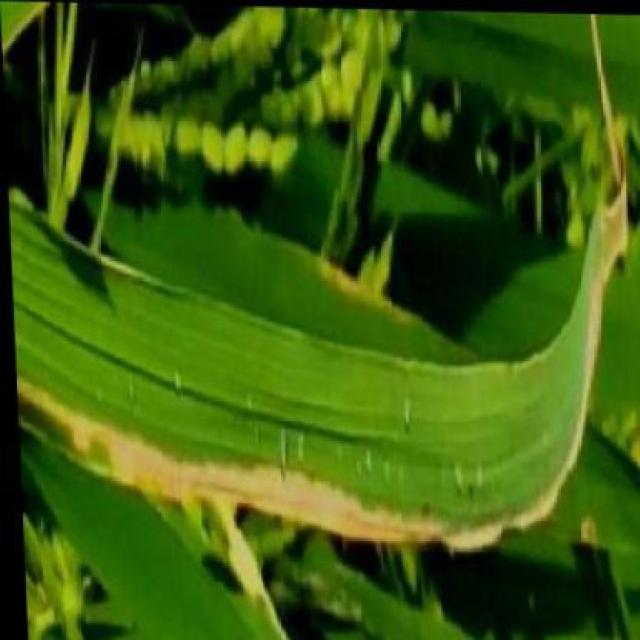Brown_Spot: (54, 312, 558, 533)
